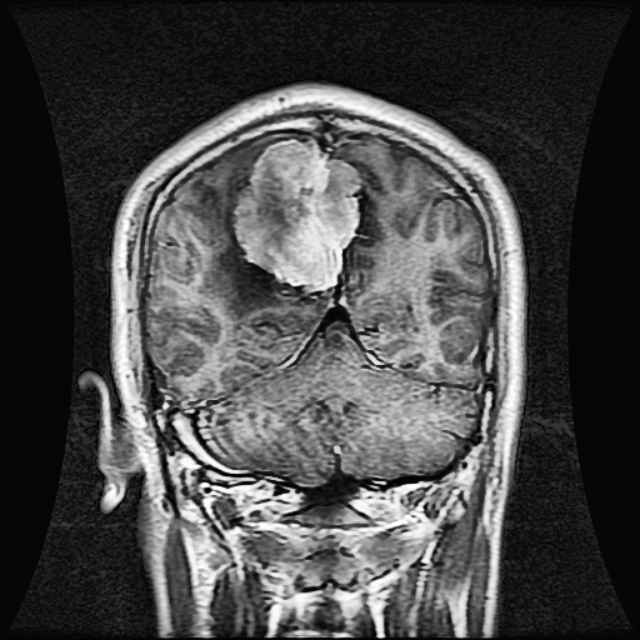Glioma: (235, 138, 360, 288)
